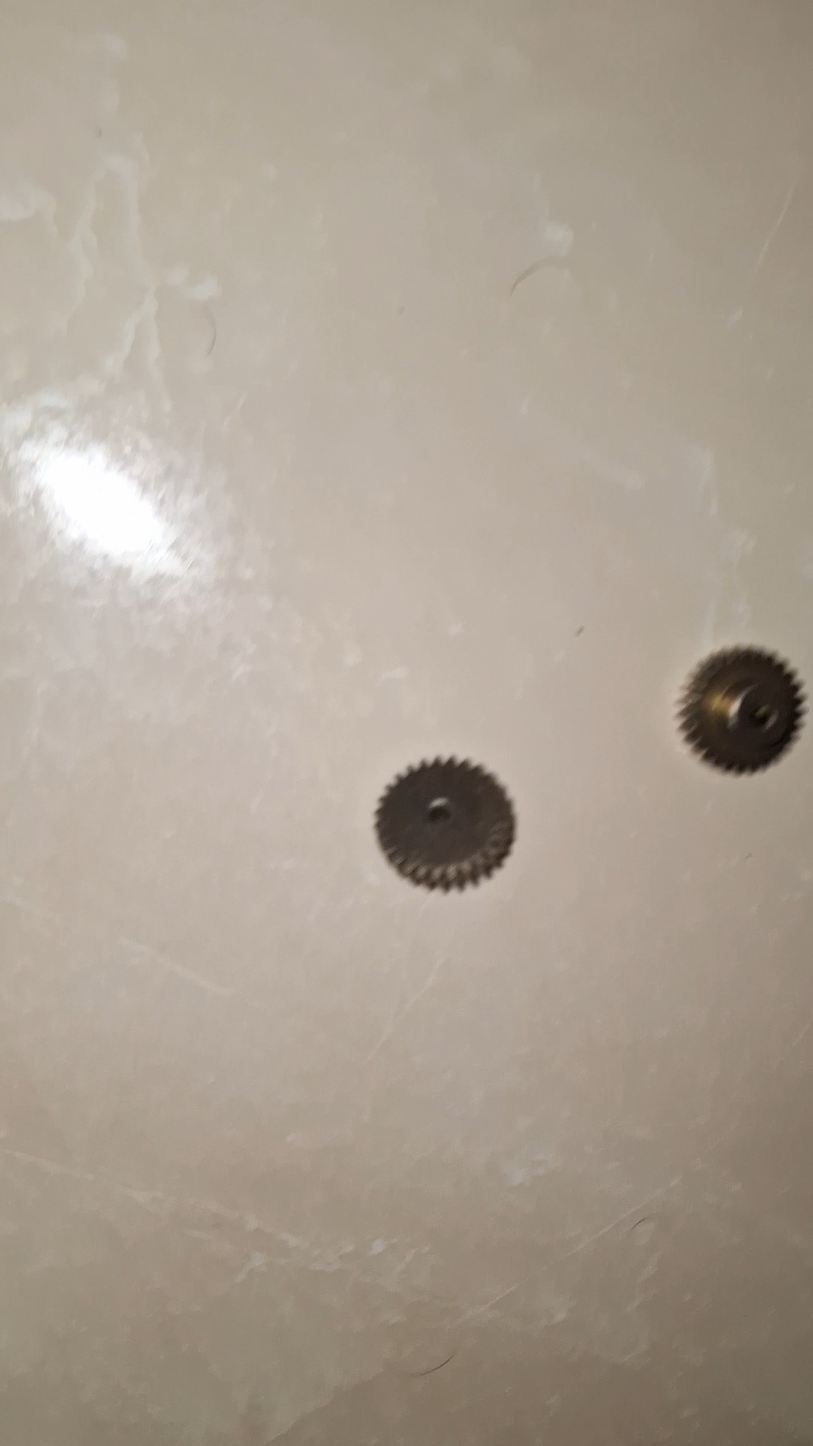spur gear: (375, 759, 515, 891), (679, 647, 804, 773)
